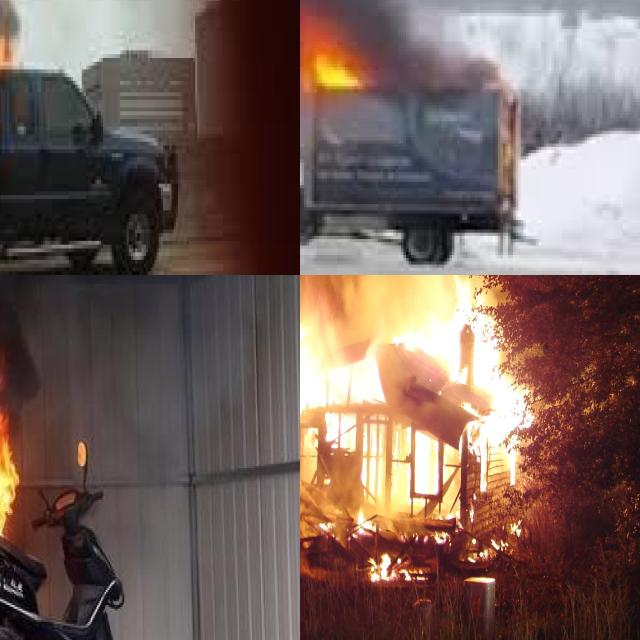fire: (300, 277, 533, 586), (300, 0, 390, 105), (0, 370, 35, 640)
smoke: (0, 275, 88, 400), (362, 0, 485, 83)
